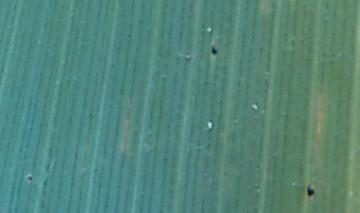tarspot: (303, 183, 317, 199), (208, 41, 220, 57), (25, 174, 34, 182)
